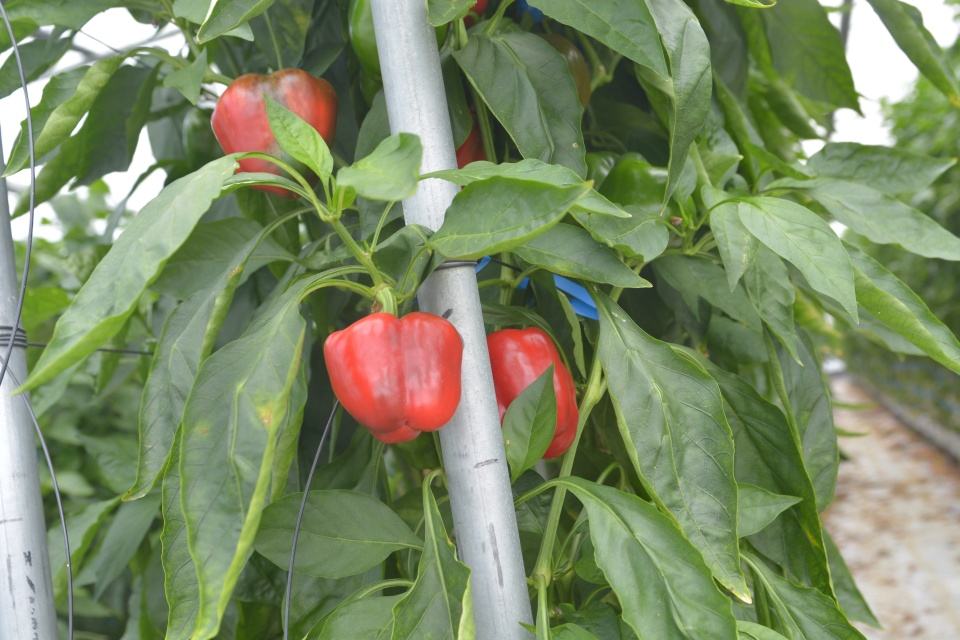fruit: (322, 308, 465, 446), (208, 64, 340, 199), (484, 324, 580, 462), (347, 0, 452, 109), (583, 147, 686, 251)
